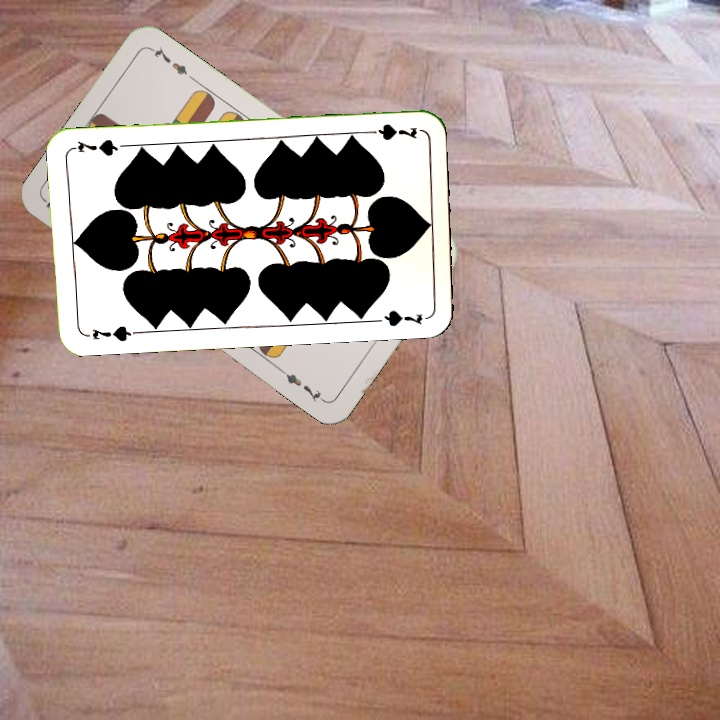G7: (360, 120, 420, 143), (88, 321, 140, 344)
